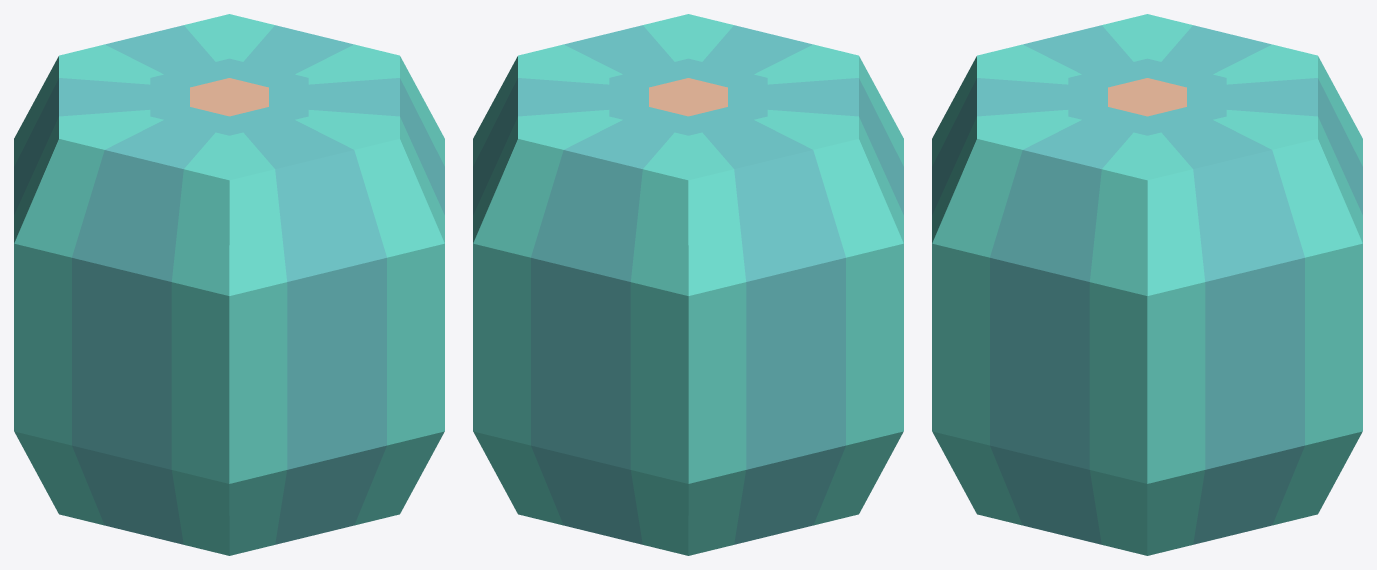
Rendered from crop_melon.glb.
3 views of the same model, side by side, from view 1: azimuth 30°, elevation 25°; view 2: azimuth 150°, elevation 25°; view 3: azimuth 270°, elevation 25° (orthographic).
Visible parts, largest first — view 1: crop_melon; view 2: crop_melon; view 3: crop_melon.
Part boxes in pixels (<box>): crop_melon: <box>14,14,444,555</box>; crop_melon: <box>473,14,903,555</box>; crop_melon: <box>932,14,1362,555</box>.
Bounding box in the file's own units: 0.4176 × 0.348 × 0.3617.
